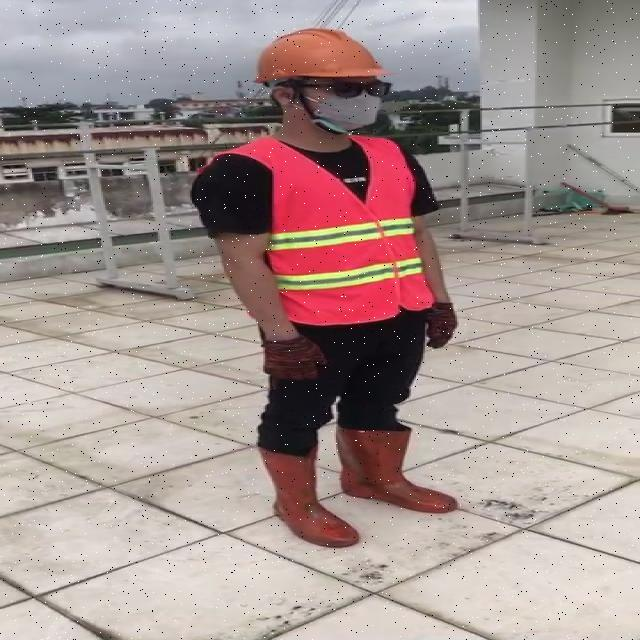Hard_hat: (245, 21, 392, 95)
Vest: (258, 130, 421, 329)
